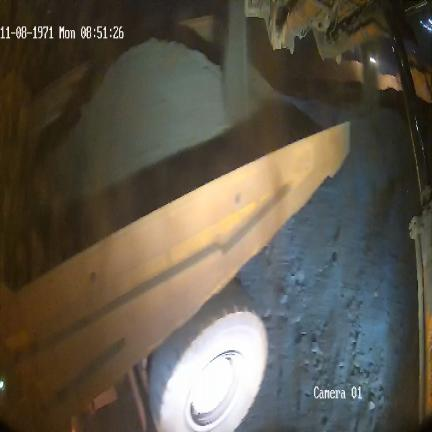pile: (47, 33, 251, 200)
